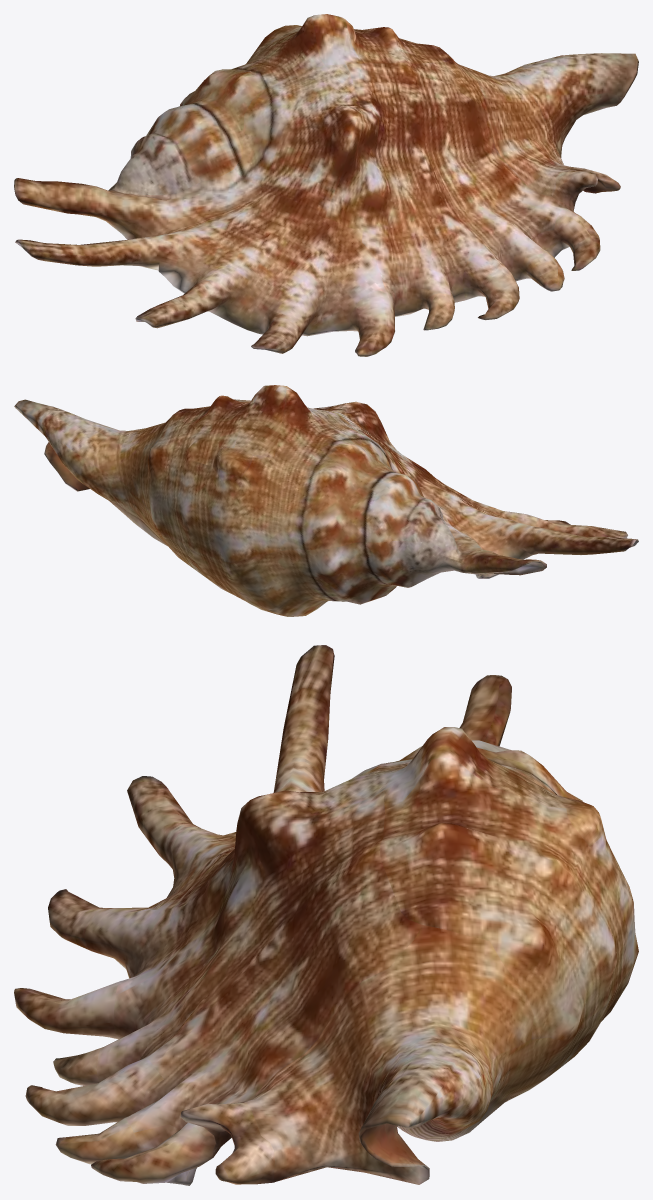
Rendered from lambis_shell.glb.
3 views of the same model, one above another, from view 1: azimuth 30°, elevation 25°; view 2: azimuth 150°, elevation 25°; view 3: azimuth 270°, elevation 25° (orthographic). The views are drawn at different scales.
Visible parts, largest first — view 1: lambis_shell; view 2: lambis_shell; view 3: lambis_shell.
Boxes of the visible parts, left/top/right/bottom form: lambis_shell: left=14, top=14, right=638, bottom=356; lambis_shell: left=14, top=385, right=638, bottom=616; lambis_shell: left=14, top=645, right=638, bottom=1185.
Size of the model in its own units: 0.1395 by 0.0465 by 0.0745.
Materials: 1 (1 with a texture image).
